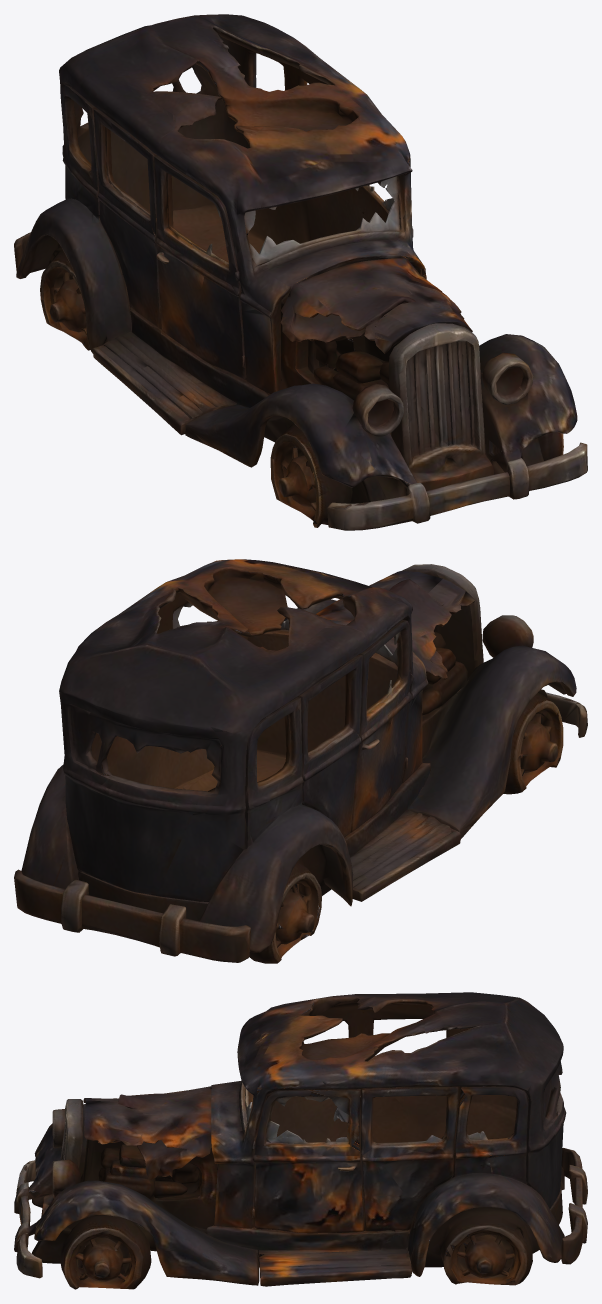
Rendered from rusted-sedan-wreck.glb.
The picture shows the model from 3 angles, top to bottom: view 1: azimuth 30°, elevation 25°; view 2: azimuth 150°, elevation 25°; view 3: azimuth 270°, elevation 25°; orthographic projection. The views are drawn at different scales.
Parts seen in each view (by area): view 1: SM_RustedSedanWreck; view 2: SM_RustedSedanWreck; view 3: SM_RustedSedanWreck.
Boxes of the visible parts, box(x1,y1,x2,y2) form: SM_RustedSedanWreck: box(14, 14, 587, 530); SM_RustedSedanWreck: box(14, 559, 587, 963); SM_RustedSedanWreck: box(14, 992, 587, 1289).
Bounding box in the file's own units: 2 × 1.97 × 4.4.
Materials: 1 (1 with a texture image).
